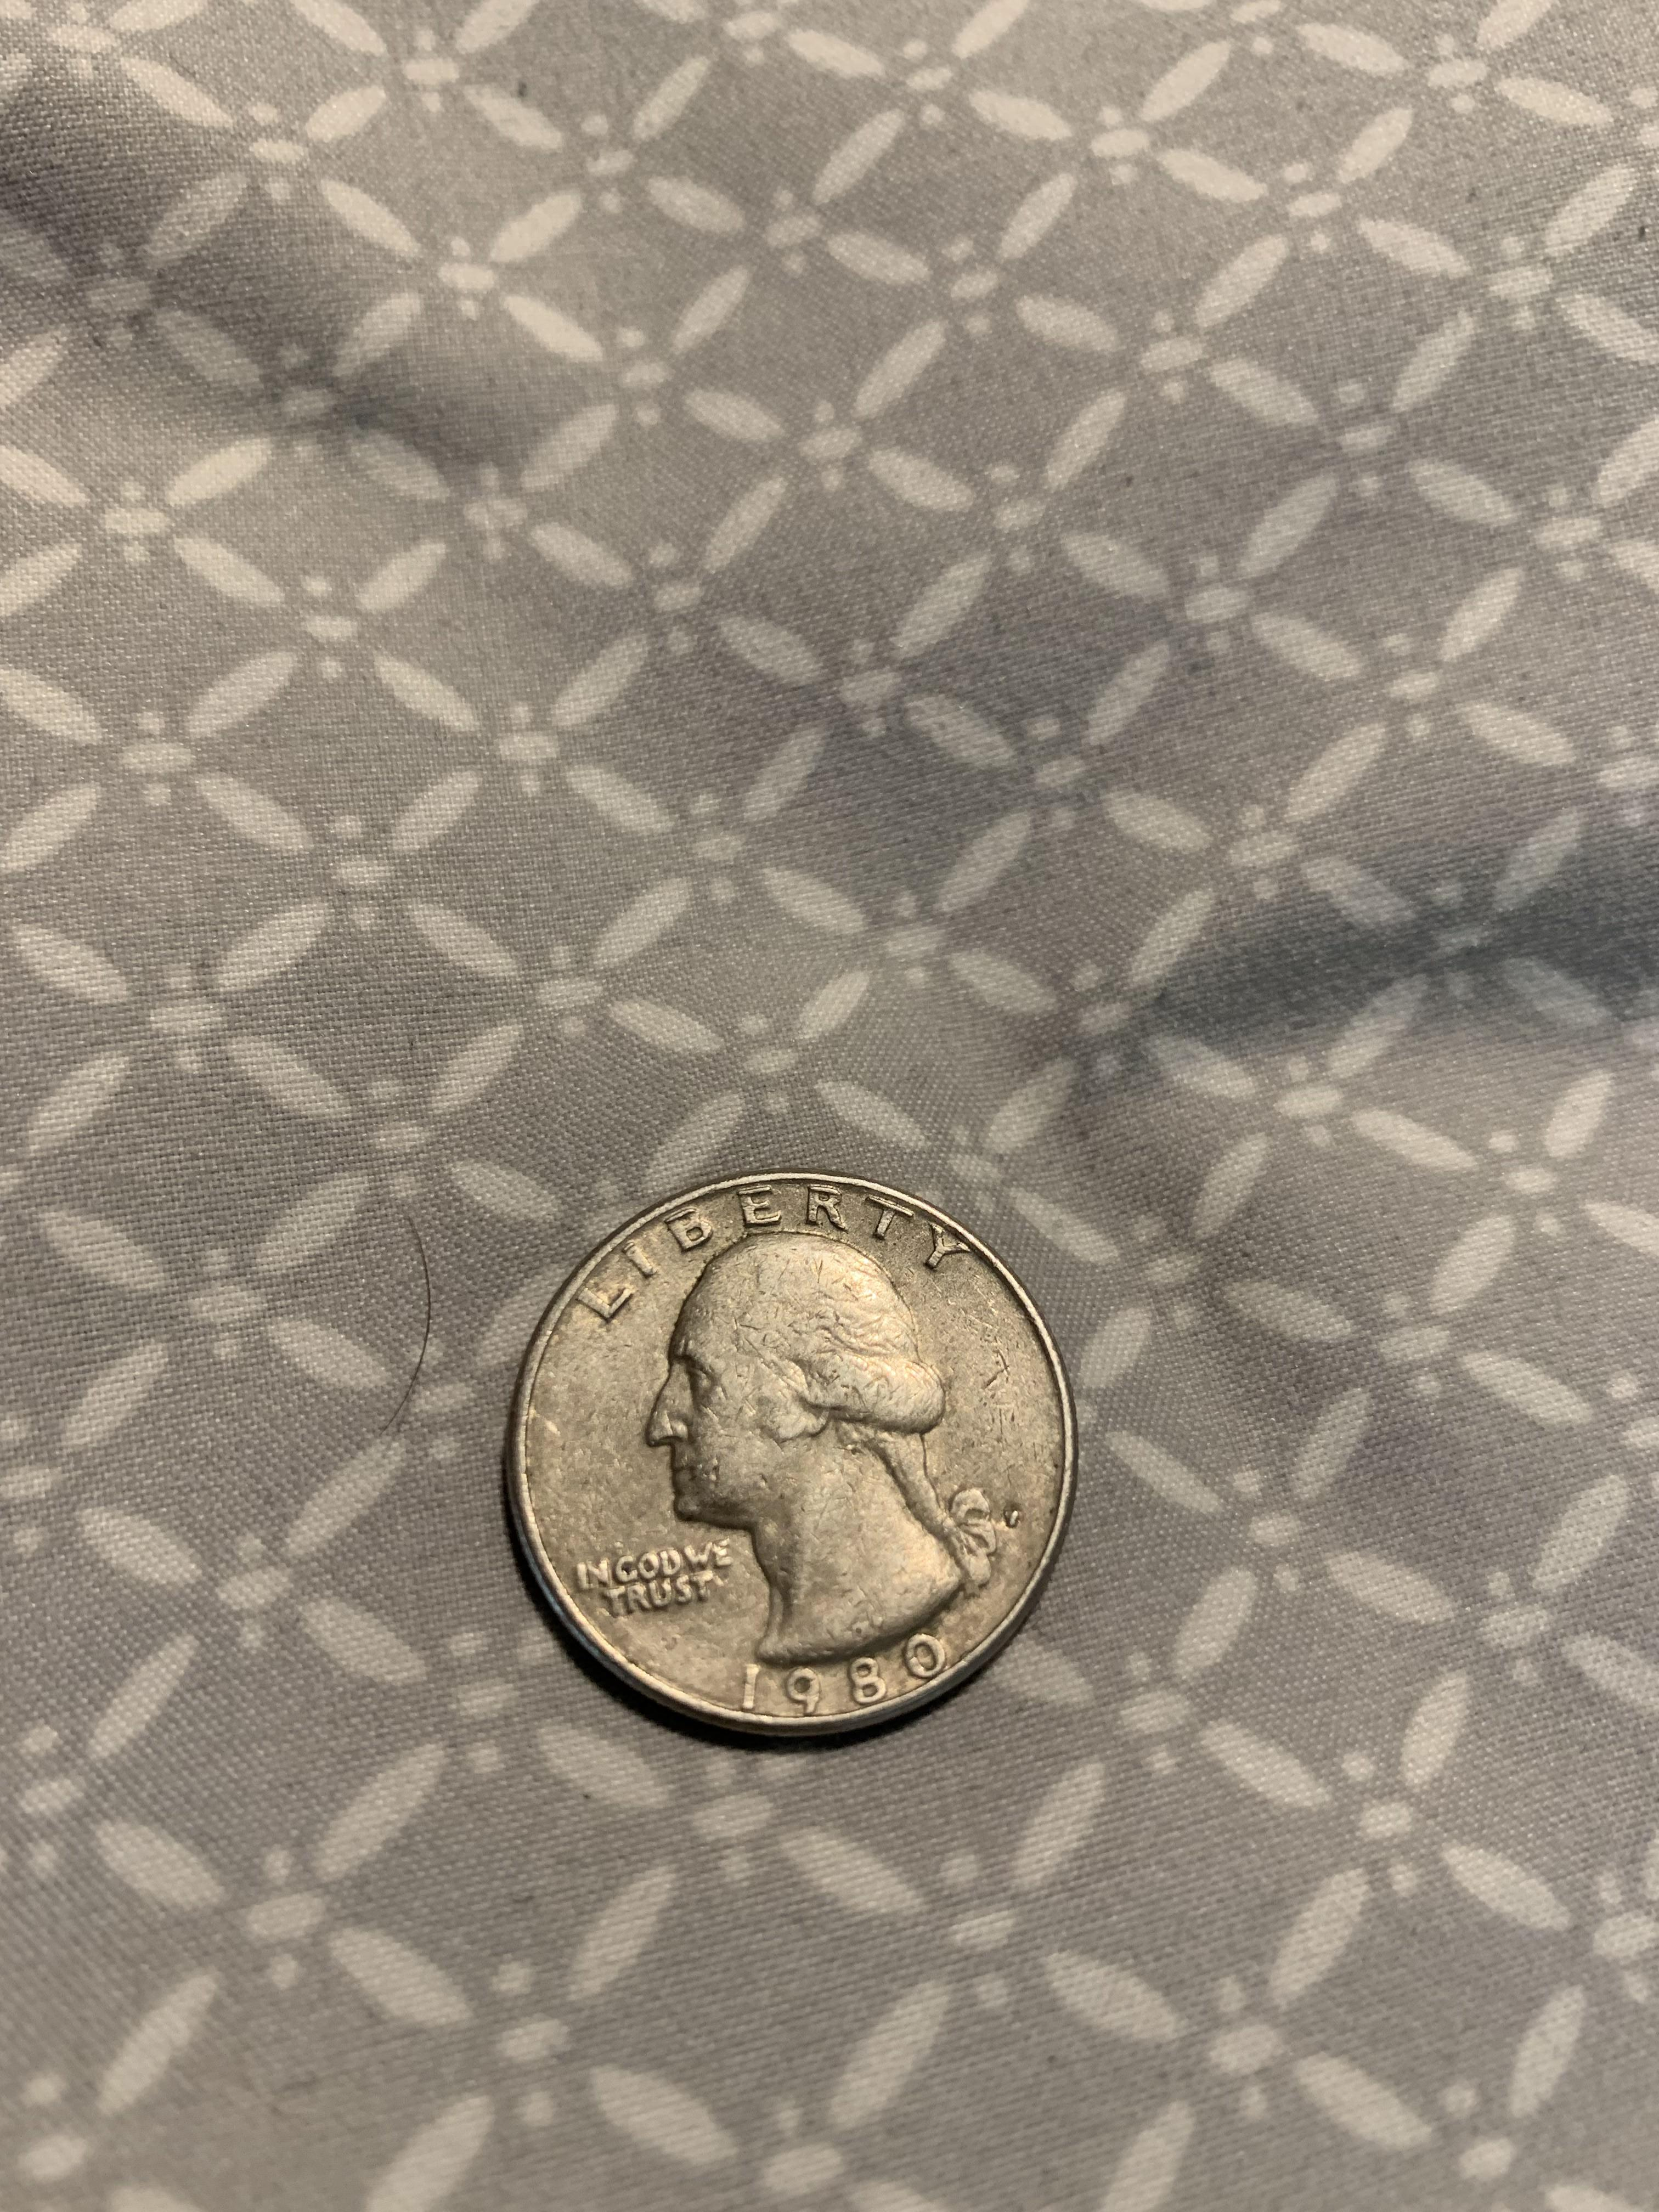Quarter: (488, 1150, 1105, 1757)
